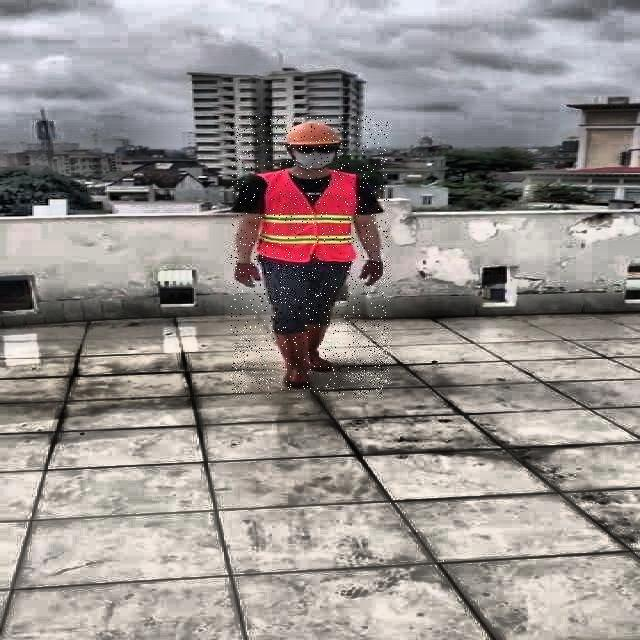safety_helmet: (283, 120, 343, 146)
safety_jacket: (263, 169, 356, 262)
